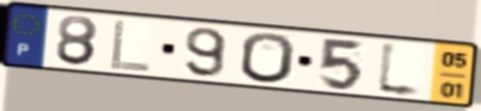5: (315, 36, 366, 92)
8: (53, 14, 100, 68)
9: (183, 26, 228, 80)
L: (373, 38, 425, 102), (107, 17, 154, 74)
O: (239, 31, 298, 86)
